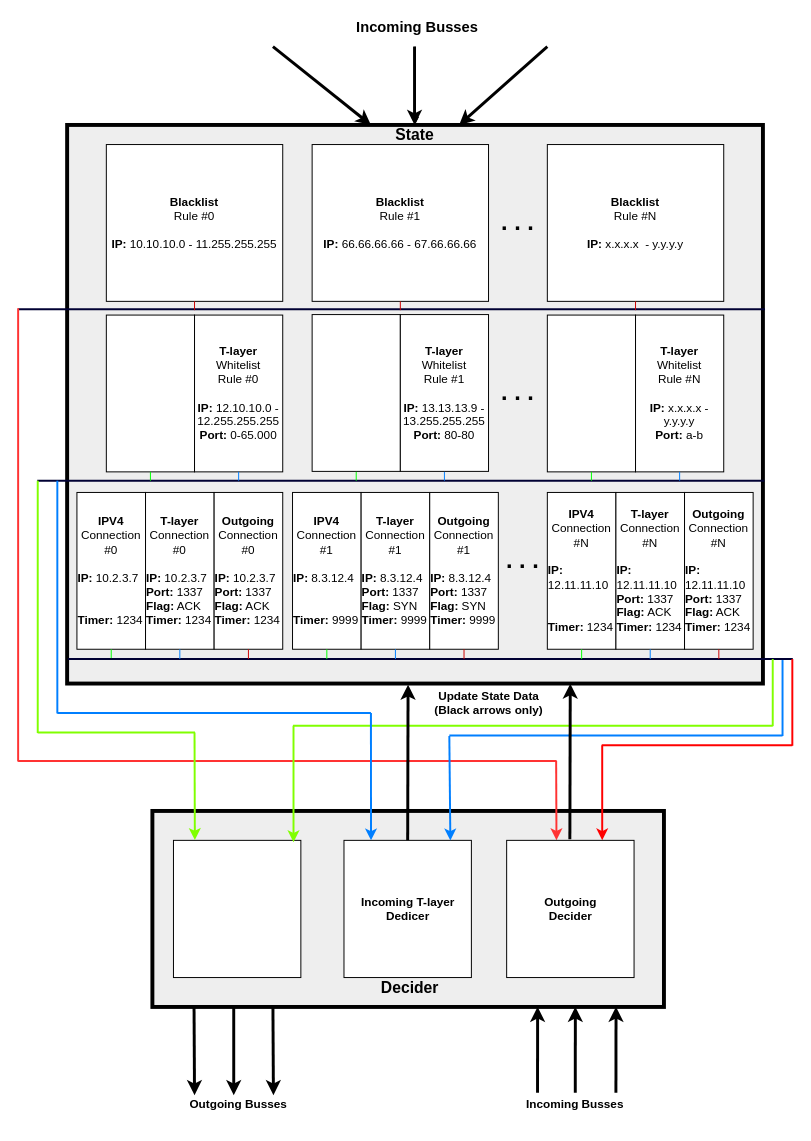
Some shapes in this 811 by 1141 pixel diagram are drawn without their labels. Here are the shapes that lost their labels. From the top down, the centre of each, then its label:
At (150,393): "IP Whitelist Rule #0 IP: 12.10.10.0 - 12.255.255.255".
At (355,392): "IP Whitelist Rule #1 IP: 13.13.13.9 - 13.255.255.255".
At (591,393): "IP Whitelist Rule #N IP: x.x.x.x - y.y.y.y".
At (236,908): "Incoming IPV4 Decider".
